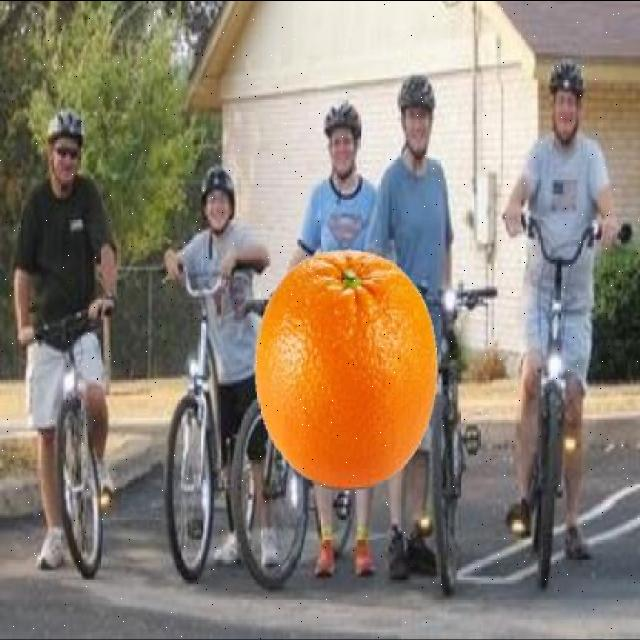Orange: (252, 249, 438, 491)
